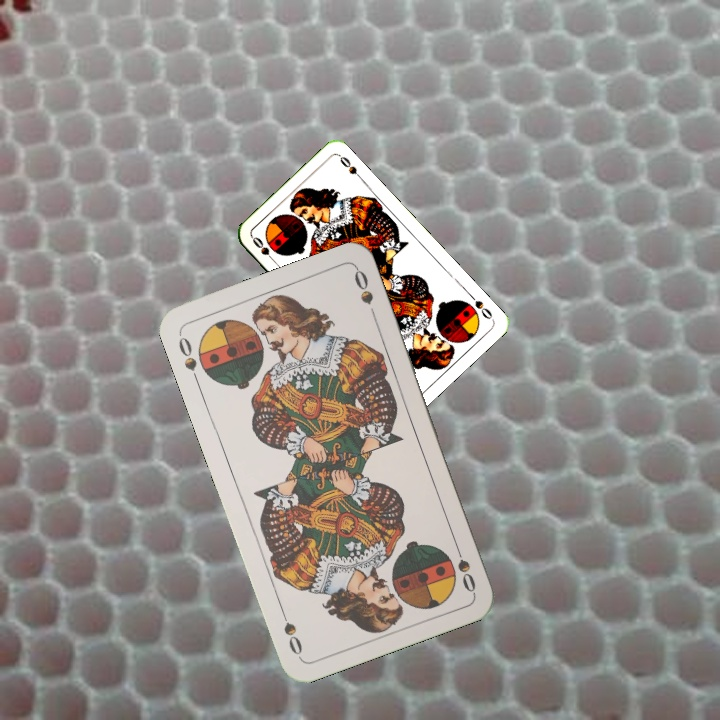SO: (450, 538, 479, 595), (174, 330, 202, 387), (248, 233, 280, 266), (465, 289, 496, 322)
